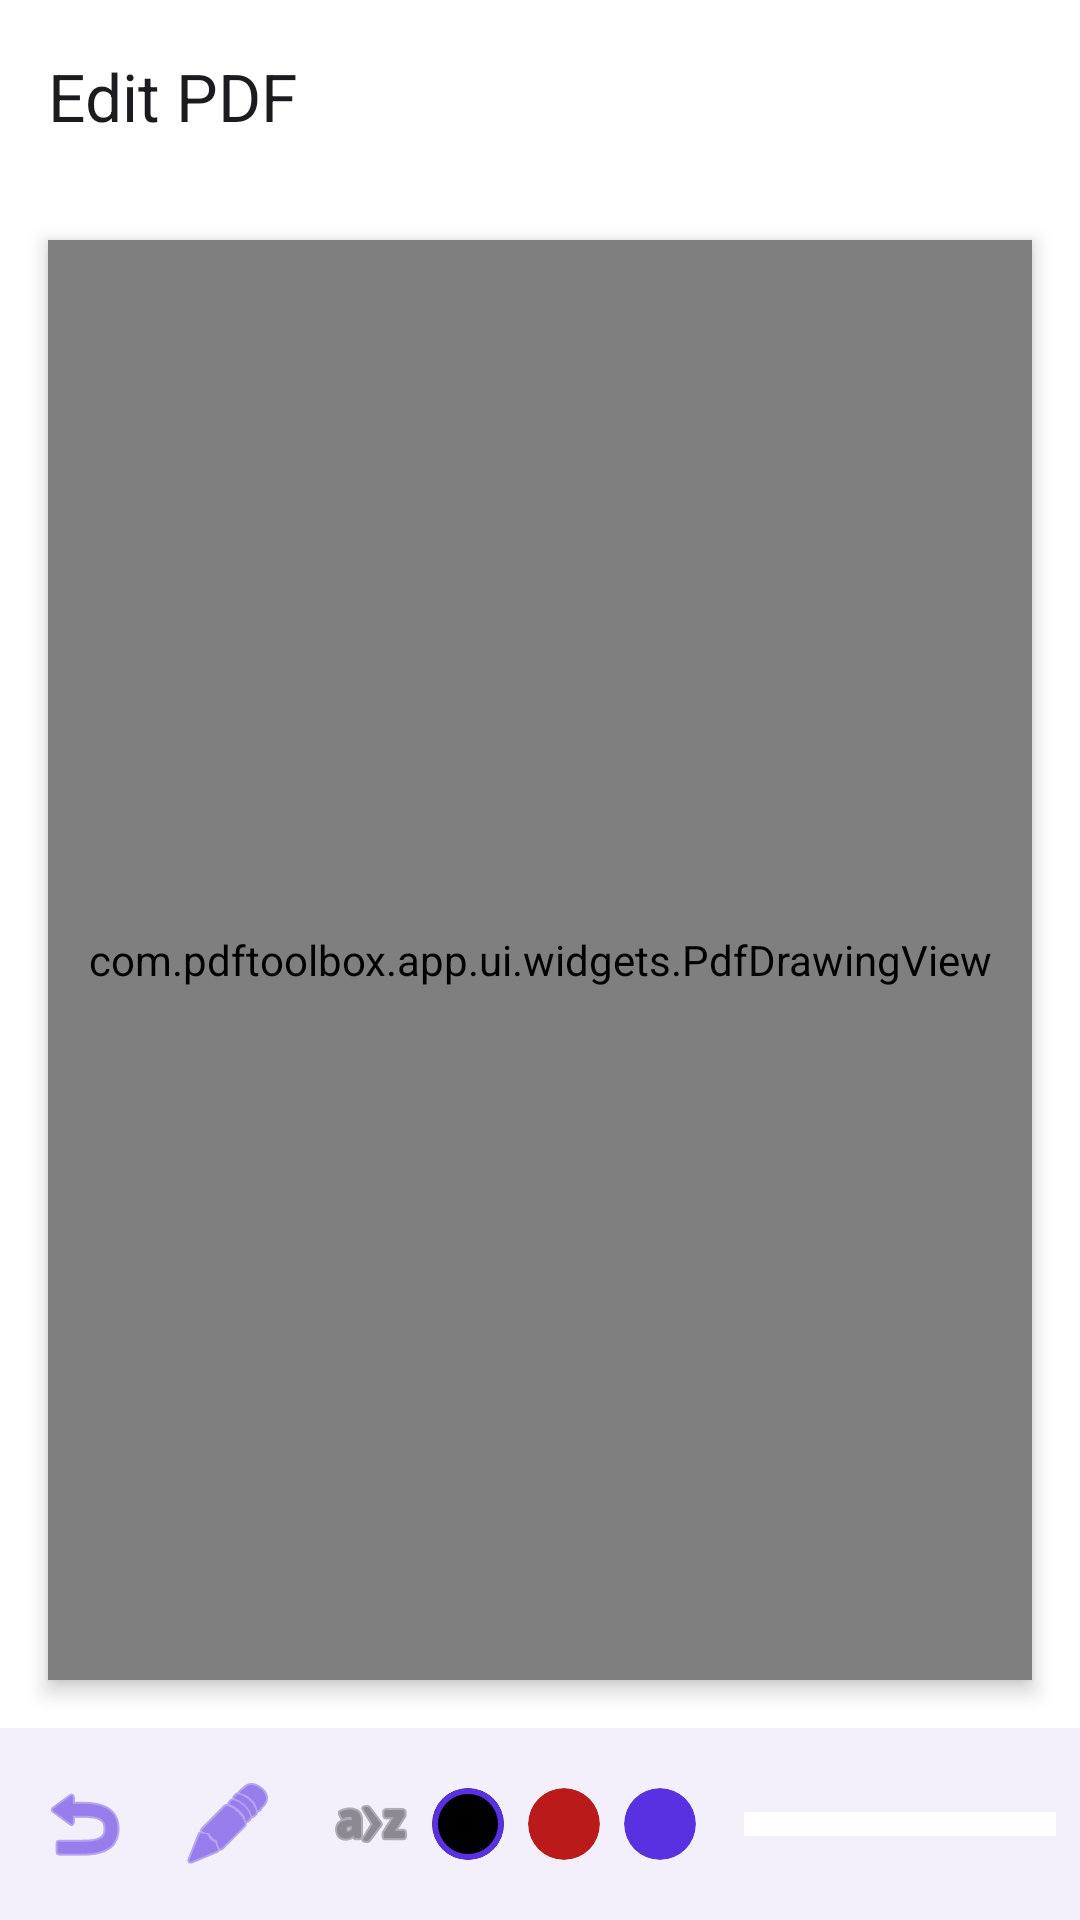

Where icons sit on this 1080px×1920px app screen, as box(x1, y1, x2, y2):
edit: box(187, 1783, 268, 1864)
revert: box(51, 1793, 120, 1856)
sort alphabetically: box(335, 1805, 407, 1843)
